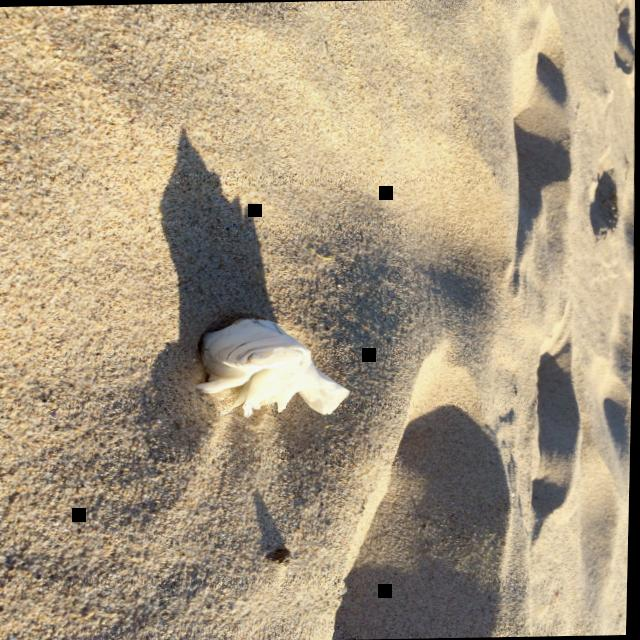Tissues: (196, 318, 351, 416)
